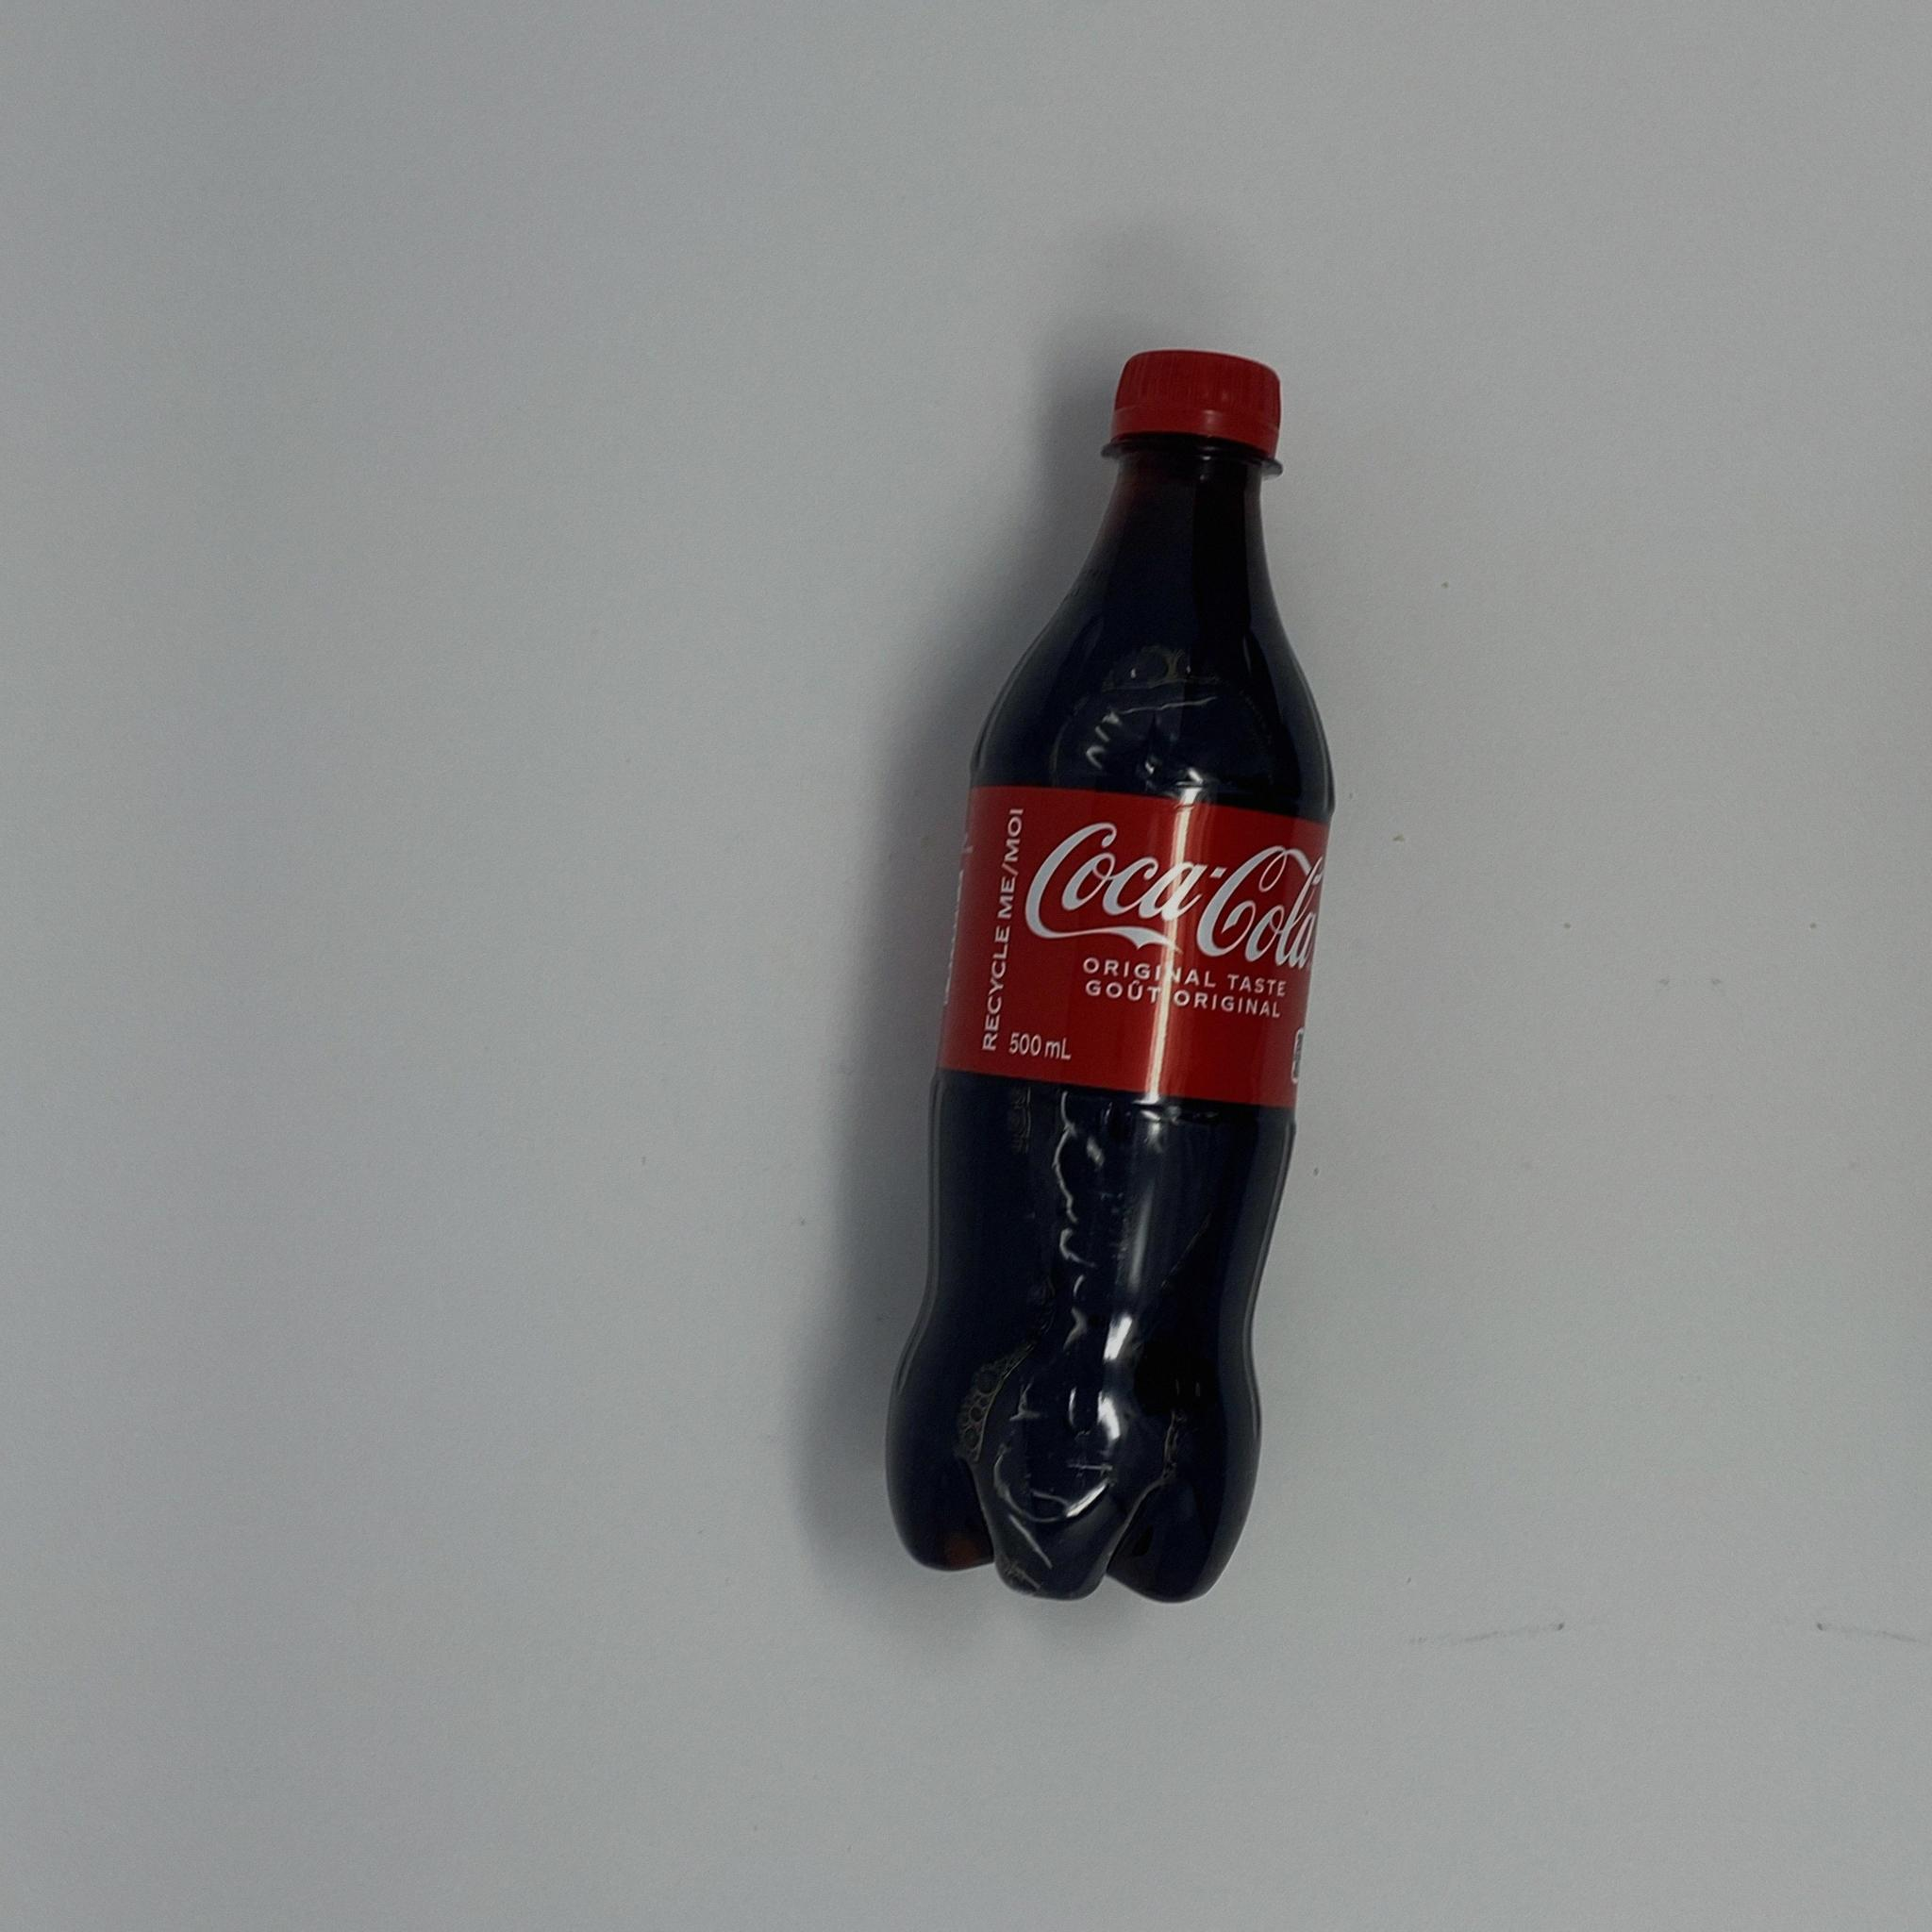PET: (883, 345, 1334, 1603)
cocacola: (883, 345, 1334, 1603)
plastic: (883, 345, 1334, 1603)
soft-drink: (883, 345, 1334, 1603)
